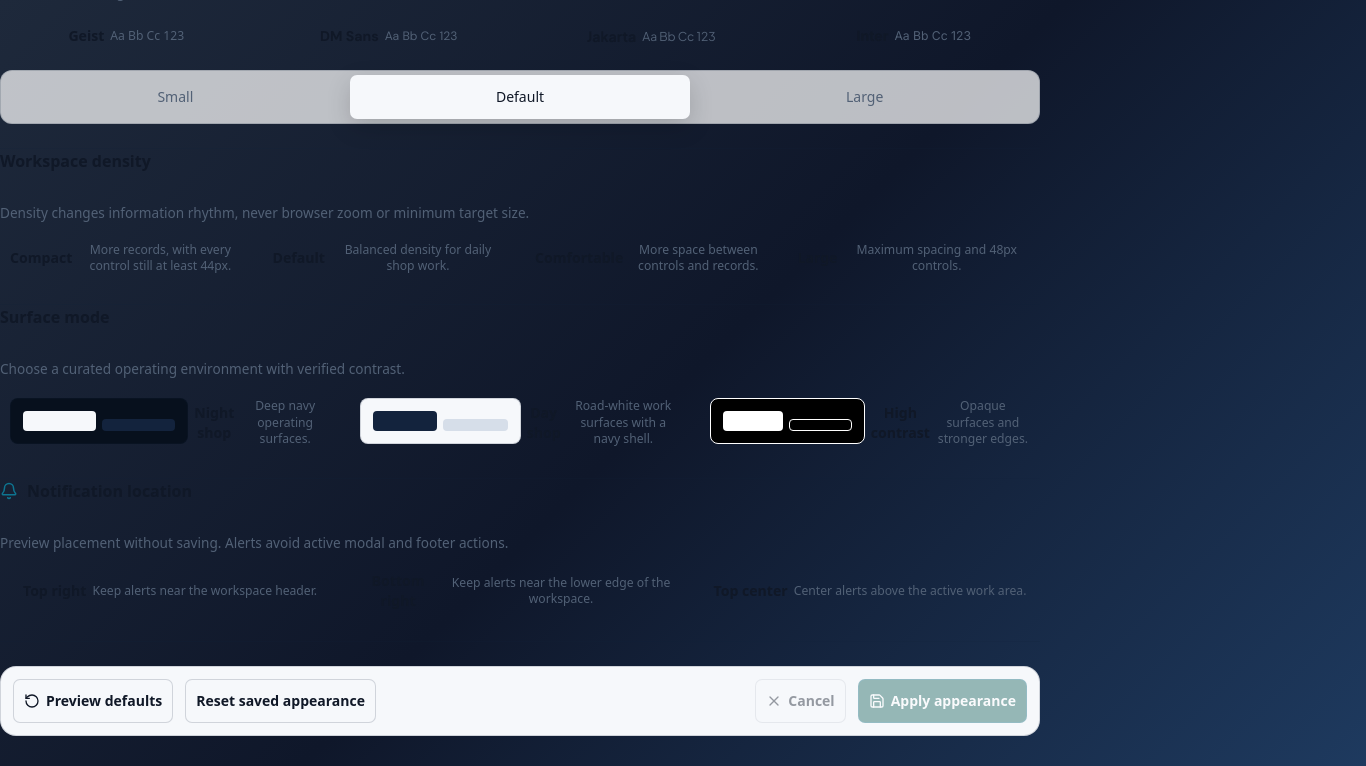
Scenario: discards a preview before continuing to another settings section
(page scrolled)
Click the button "Night shop Deep navy operating surfaces.". click: (170, 423)
box: [0,392,340,454]
(page scrolled)
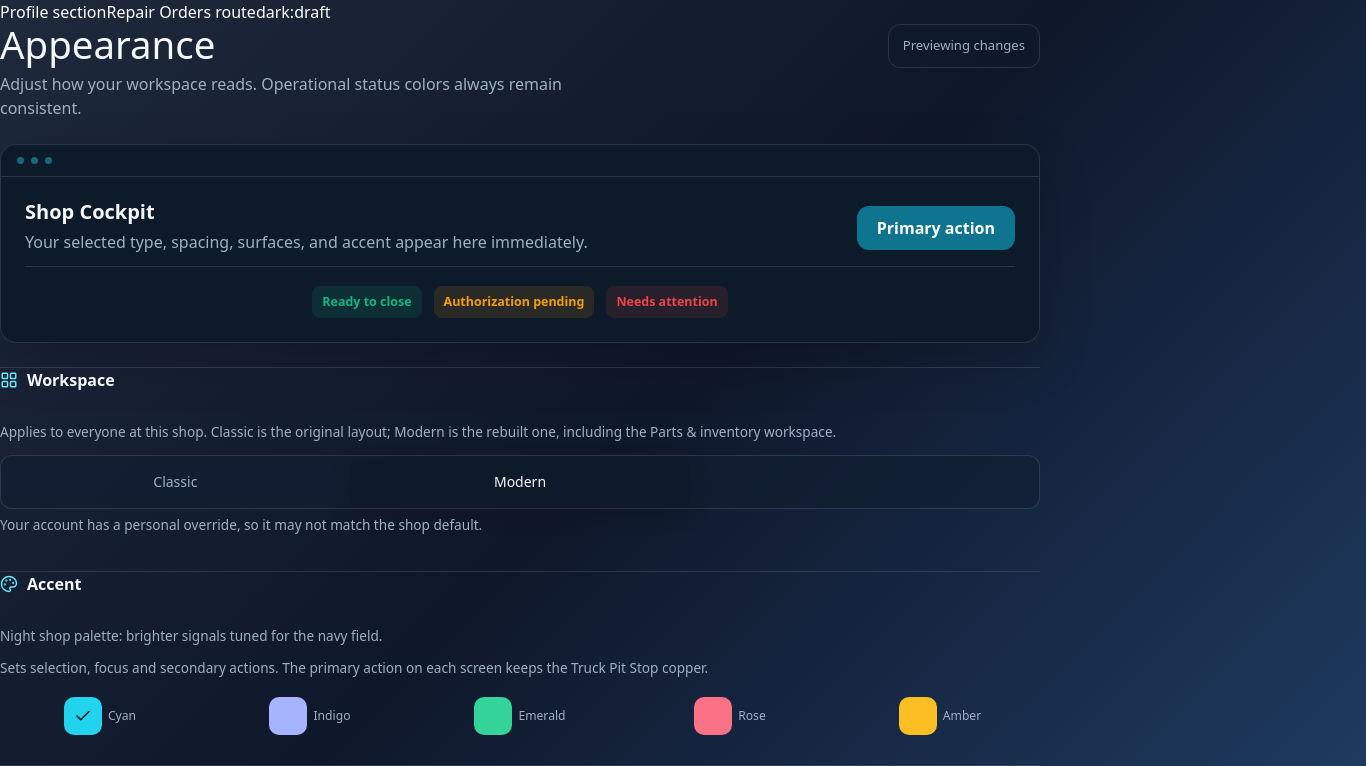
Click the button "Profile section". click: (53, 12)
box: [0,0,106,24]
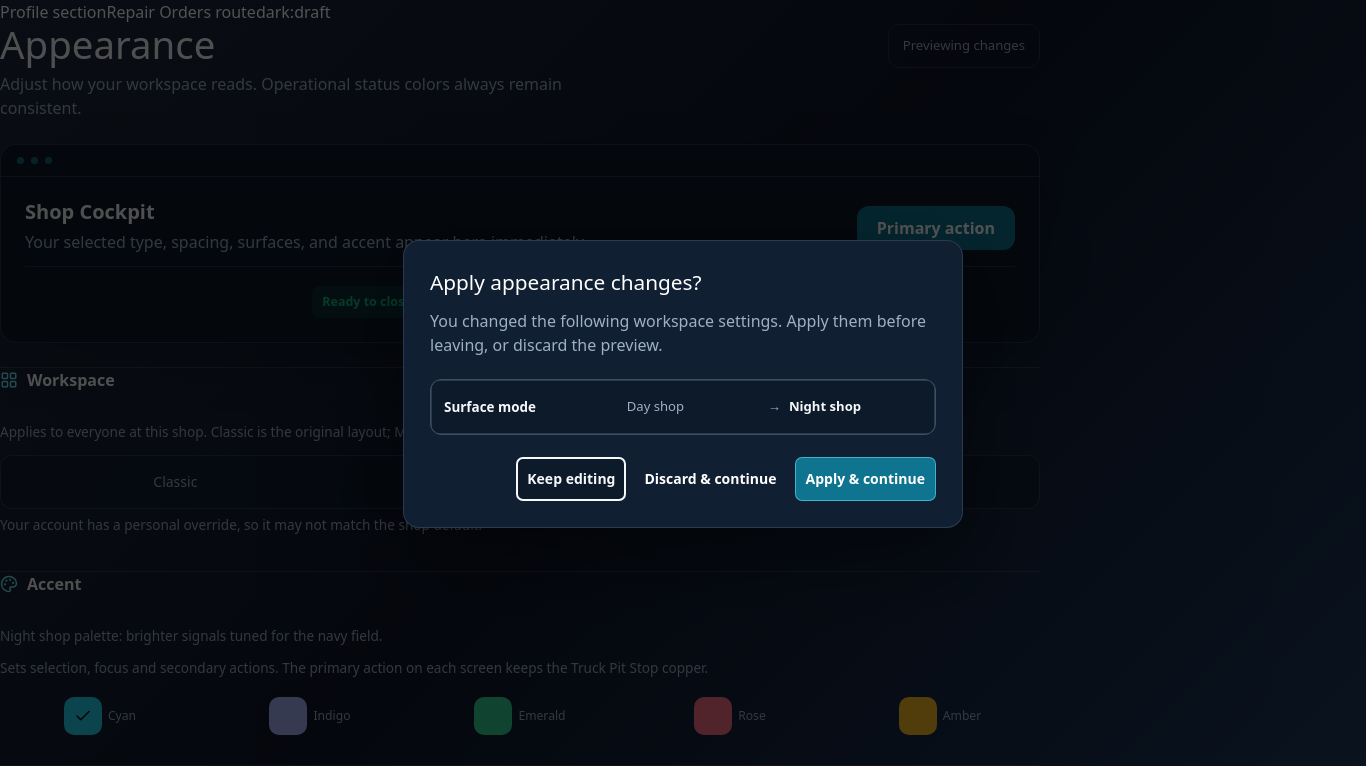
Check: the dialog "Apply appearance changes?" is shown, box [403,240,963,528]
Click the button "Discard & continue". click: (710, 479)
box: [634,457,786,501]
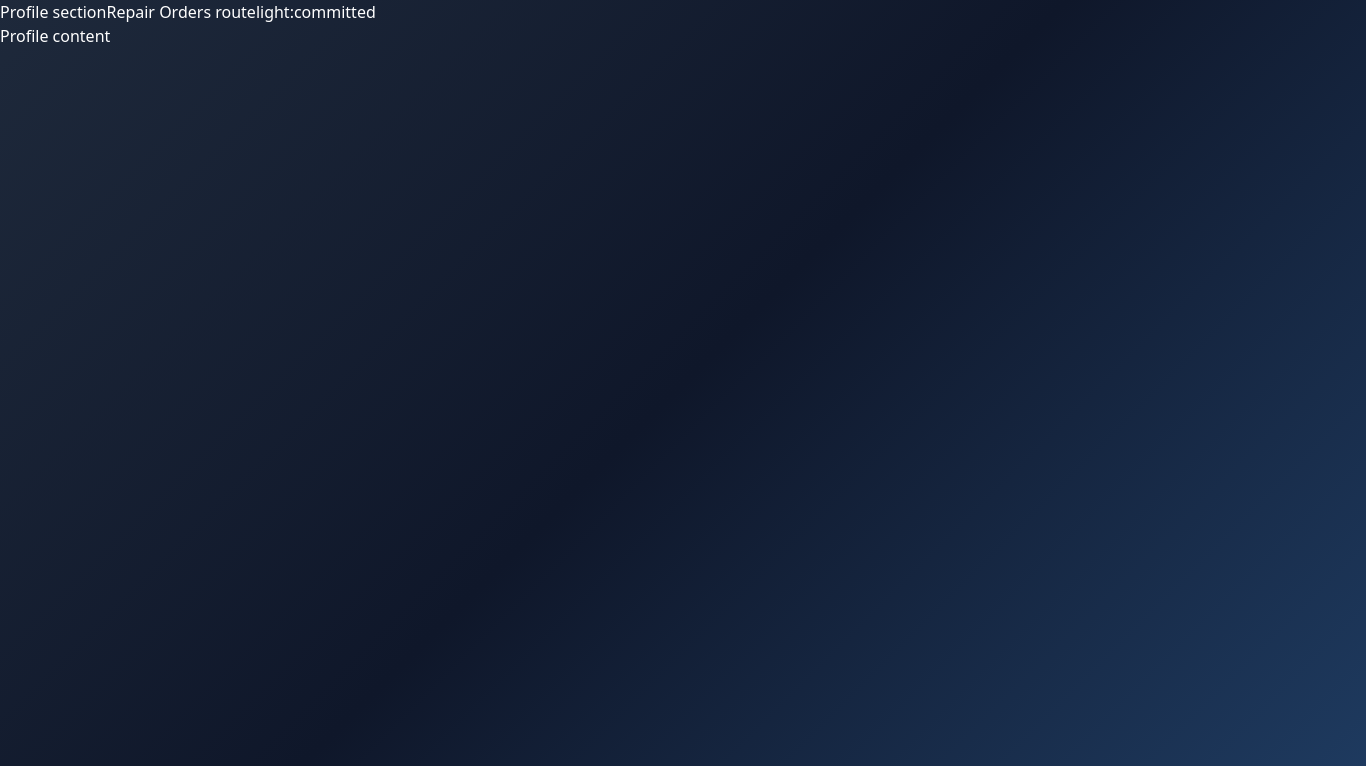
Check: the text "Profile content" is shown, box [0,25,110,47]
Check: the text named "settings appearance" reads "light:committed", box [256,1,376,23]
